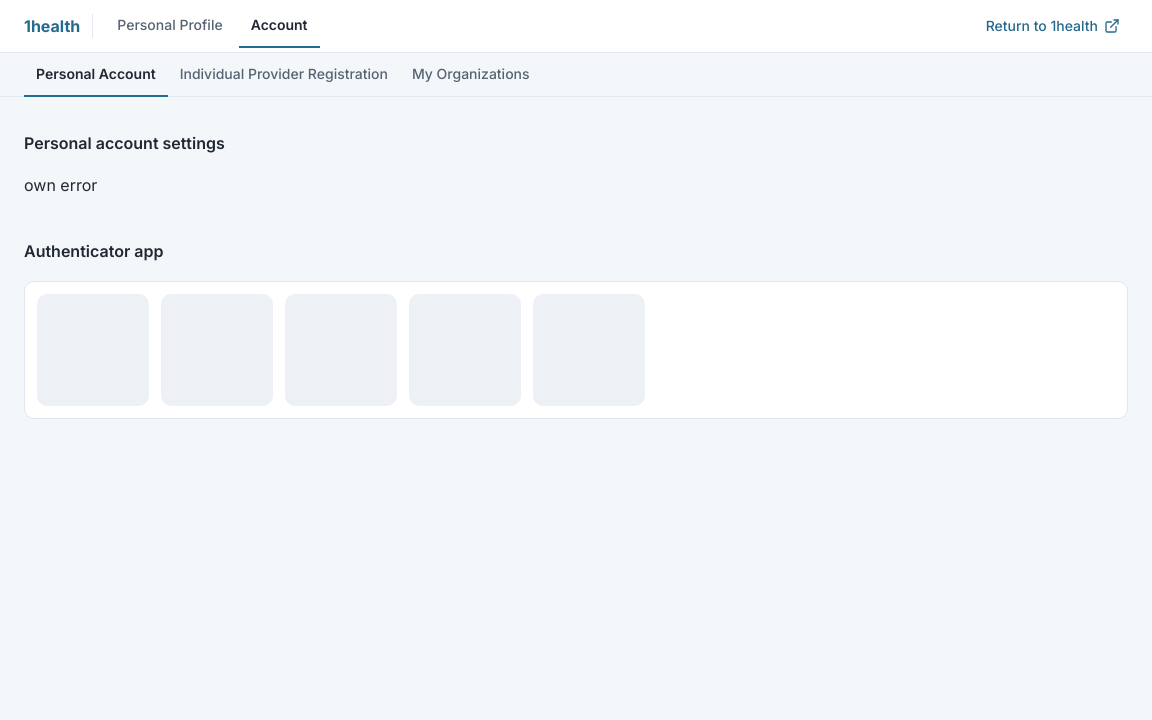
the myself error claim (F6-1 review H1) › the page banner hides while a mounted Section claims the error, and comes back on a tab without one
Expected: the text "own error" is shown, [24,175,97,195]
Press the mouse on the tab "My Organizations": (471,75) [400,53,542,97]
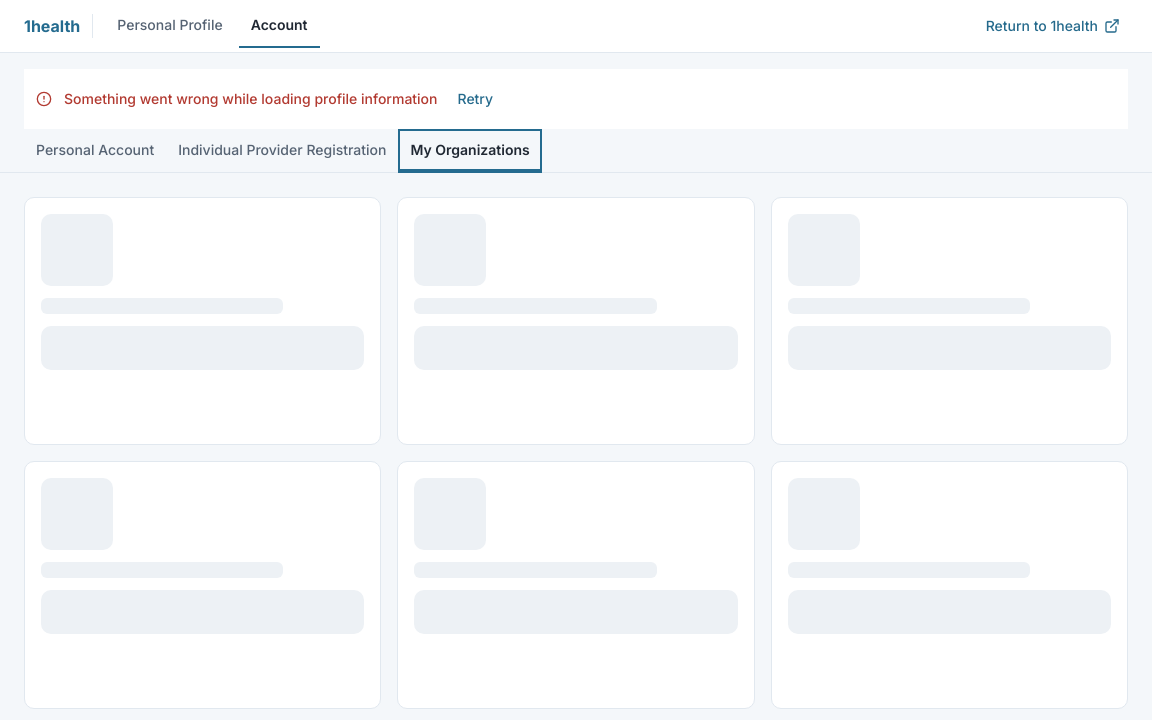
Expected: the text "Something went wrong while loading profile information" is shown, [64,89,438,109]
Press the mouse on the tab "Personal Account": (95,151) [24,129,166,173]
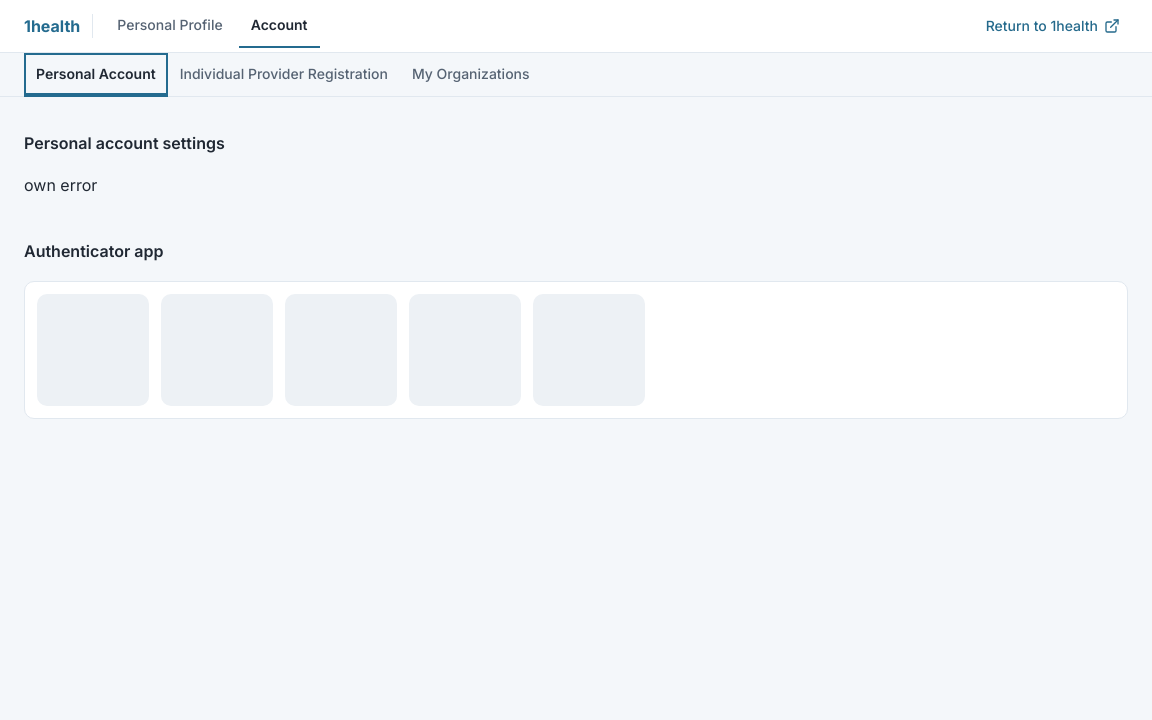
Expected: the text "own error" is shown, [24,175,97,195]
Expected: the text "Something went wrong while loading profile information" is not shown
